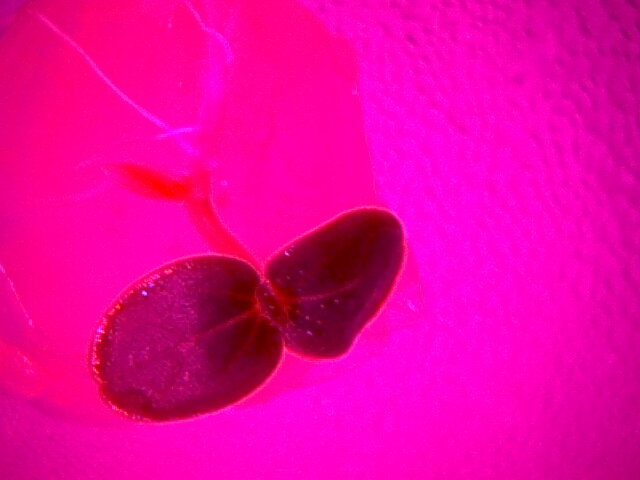seedling: (85, 220, 419, 418)
